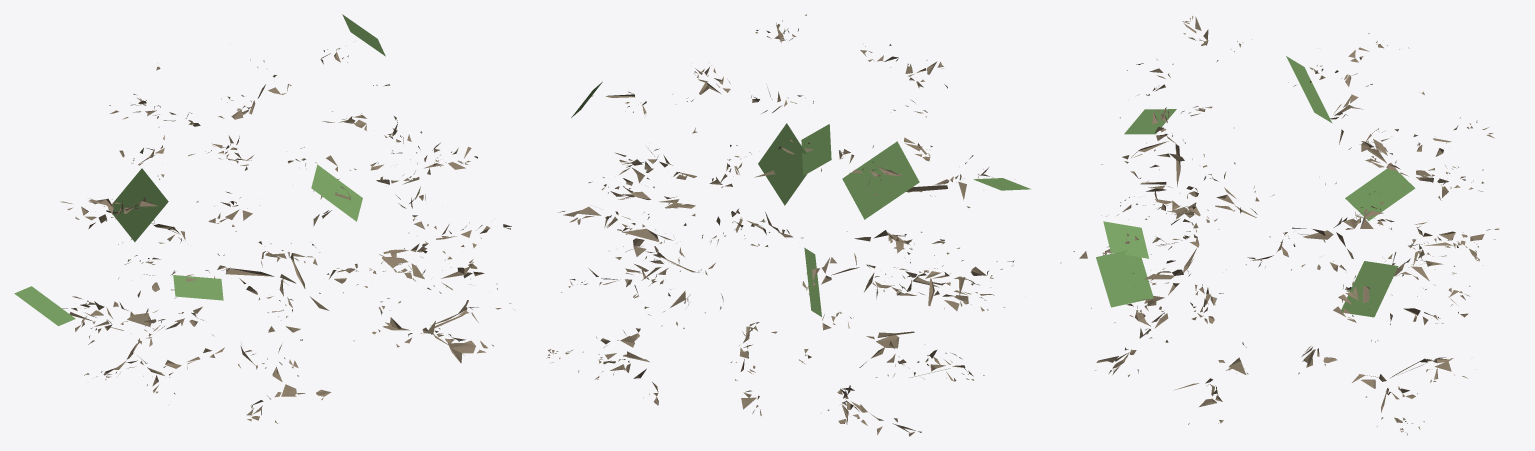
File: branch_redwood_a.glb
The picture shows the model from 3 angles, left to right: view 1: azimuth 30°, elevation 25°; view 2: azimuth 150°, elevation 25°; view 3: azimuth 270°, elevation 25°; orthographic projection. The views are drawn at different scales.
Parts seen in each view (by area): view 1: wood, leaves; view 2: wood, leaves; view 3: wood, leaves.
Boxes of the visible parts, box(x1,y1,x2,y2) form: wood: box(61, 34, 511, 423); leaves: box(14, 14, 385, 325); wood: box(546, 14, 1014, 436); leaves: box(571, 81, 1030, 377); wood: box(1060, 16, 1499, 435); leaves: box(1096, 56, 1415, 317).
Size of the model in its own units: 4.78 by 3.19 by 4.47.
